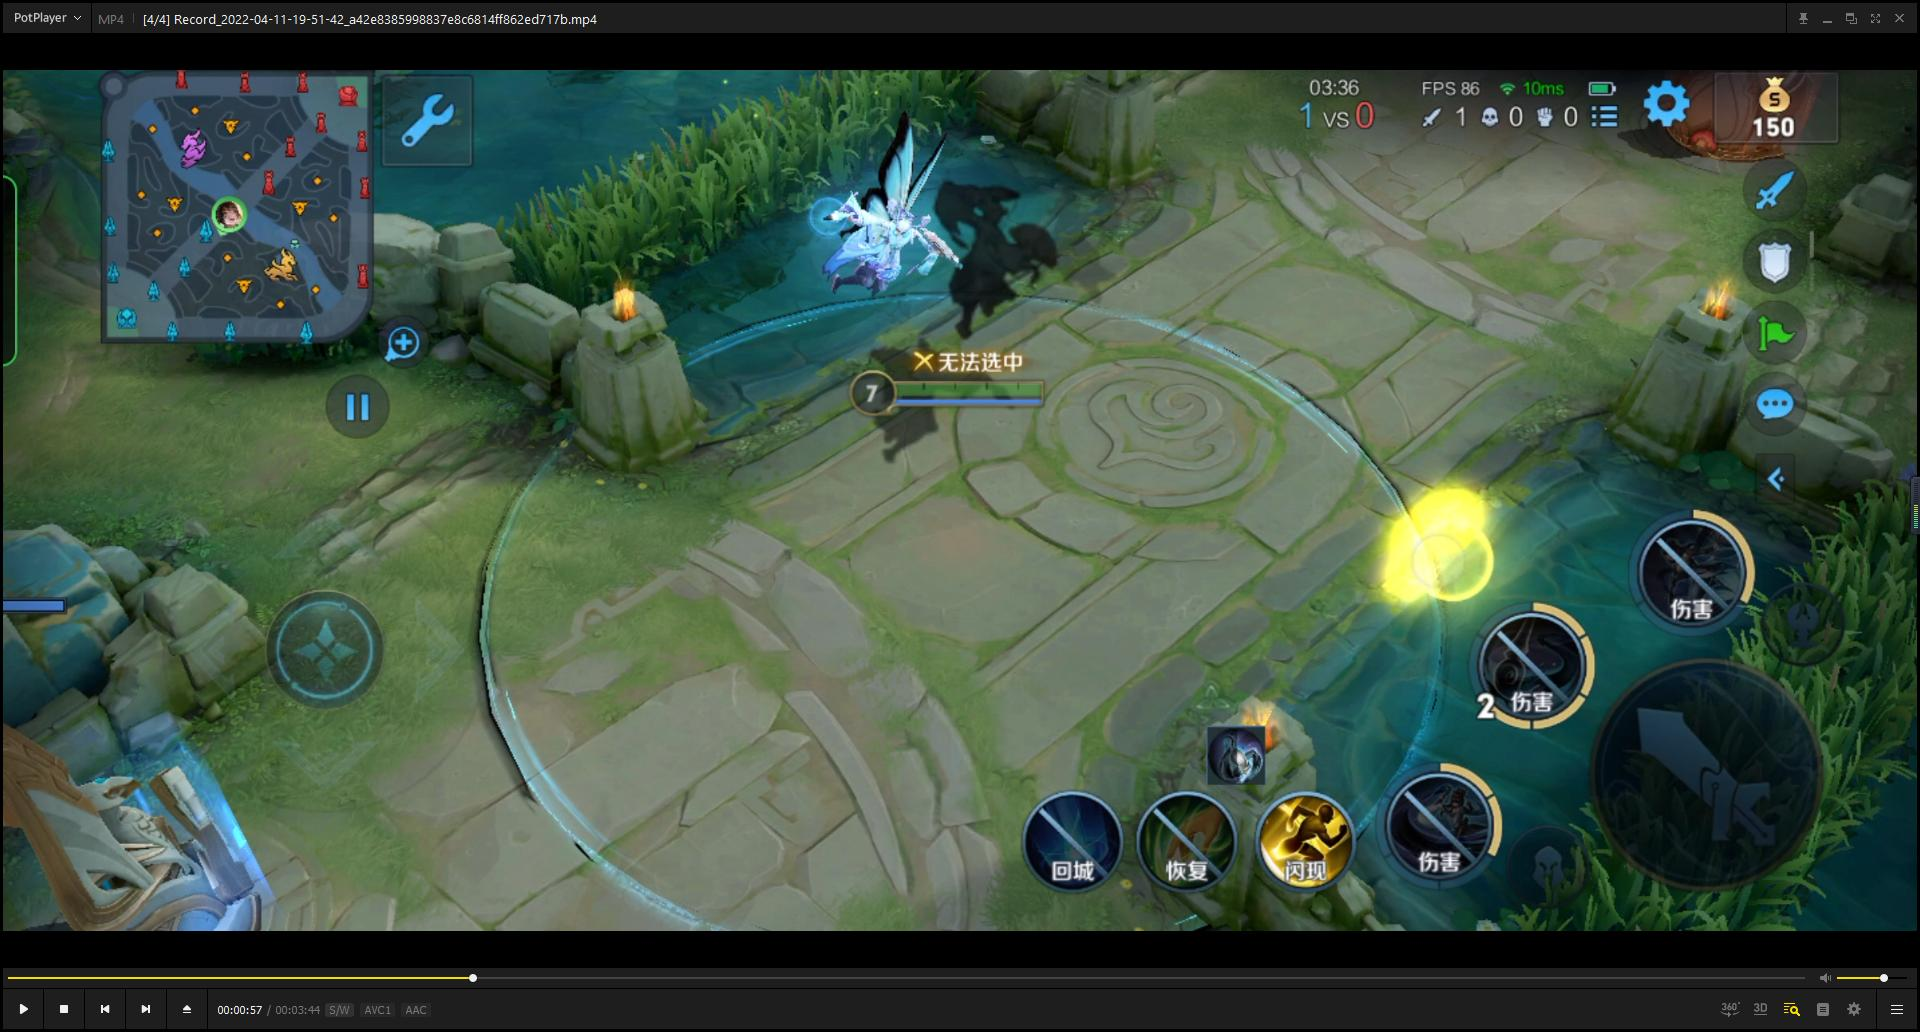Hero: (822, 153, 1067, 527)
Tower: (1, 591, 277, 932), (1649, 70, 1820, 164)
